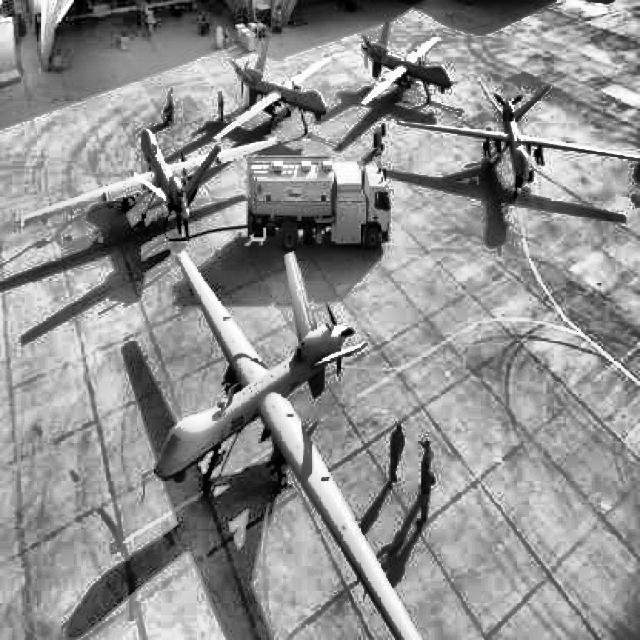MQ9: (142, 248, 422, 640), (397, 75, 640, 199), (19, 127, 281, 241), (210, 38, 332, 140), (358, 15, 458, 109)
